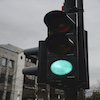green: (33, 30, 72, 91)
